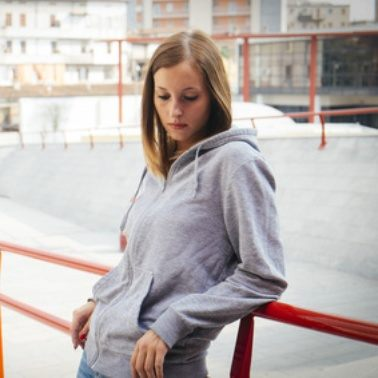sad: (141, 64, 214, 143)
